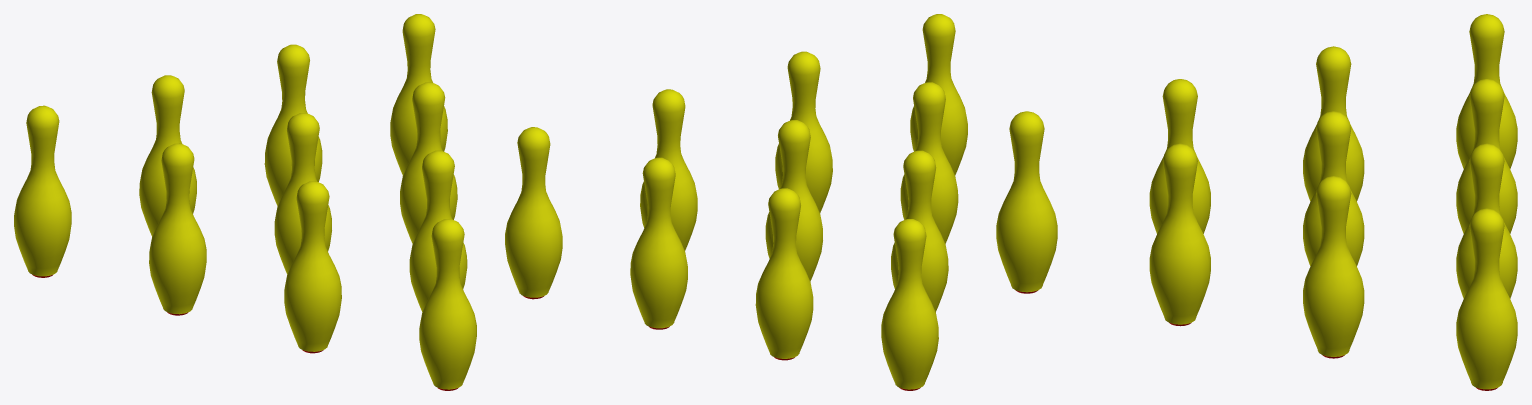
Rendered from #TOY0003_V2_10_Bowling_Pins.fbx.
3 renders of one model, left to right at view 1: azimuth 30°, elevation 25°; view 2: azimuth 150°, elevation 25°; view 3: azimuth 270°, elevation 25°, orthographic. The views are drawn at different scales.
Parts seen in each view (by area): view 1: #TOY0003_V2_Pin.002, #TOY0003_V2_Pin.004, #TOY0003_V2_Pin.007, #TOY0003_V2_Pin.001, #TOY0003_V2_Pin.010, #TOY0003_V2_Pin.003, #TOY0003_V2_Pin.008, #TOY0003_V2_Pin.005, #TOY0003_V2_Pin.006, #TOY0003_V2_Pin.009; view 2: #TOY0003_V2_Pin.009, #TOY0003_V2_Pin.010, #TOY0003_V2_Pin.007, #TOY0003_V2_Pin.008, #TOY0003_V2_Pin.004, #TOY0003_V2_Pin.006, #TOY0003_V2_Pin.003, #TOY0003_V2_Pin.002, #TOY0003_V2_Pin.001, #TOY0003_V2_Pin.005; view 3: #TOY0003_V2_Pin.010, #TOY0003_V2_Pin.001, #TOY0003_V2_Pin.006, #TOY0003_V2_Pin.003, #TOY0003_V2_Pin.009, #TOY0003_V2_Pin.007, #TOY0003_V2_Pin.008, #TOY0003_V2_Pin.004, #TOY0003_V2_Pin.002, #TOY0003_V2_Pin.005.
Part boxes in pixels (x1=…): #TOY0003_V2_Pin.002: x1=284, y1=181, x2=341, y2=353; #TOY0003_V2_Pin.004: x1=149, y1=143, x2=206, y2=315; #TOY0003_V2_Pin.007: x1=14, y1=105, x2=71, y2=277; #TOY0003_V2_Pin.001: x1=419, y1=219, x2=476, y2=390; #TOY0003_V2_Pin.010: x1=390, y1=14, x2=447, y2=175; #TOY0003_V2_Pin.003: x1=409, y1=150, x2=467, y2=311; #TOY0003_V2_Pin.008: x1=139, y1=75, x2=196, y2=236; #TOY0003_V2_Pin.005: x1=274, y1=113, x2=331, y2=273; #TOY0003_V2_Pin.006: x1=400, y1=82, x2=457, y2=243; #TOY0003_V2_Pin.009: x1=264, y1=44, x2=322, y2=205; #TOY0003_V2_Pin.009: x1=630, y1=157, x2=687, y2=329; #TOY0003_V2_Pin.010: x1=505, y1=127, x2=562, y2=299; #TOY0003_V2_Pin.007: x1=881, y1=219, x2=938, y2=390; #TOY0003_V2_Pin.008: x1=755, y1=188, x2=813, y2=360; #TOY0003_V2_Pin.004: x1=891, y1=150, x2=948, y2=311; #TOY0003_V2_Pin.006: x1=640, y1=89, x2=697, y2=250; #TOY0003_V2_Pin.003: x1=775, y1=51, x2=832, y2=212; #TOY0003_V2_Pin.002: x1=900, y1=82, x2=958, y2=243; #TOY0003_V2_Pin.001: x1=910, y1=14, x2=967, y2=175; #TOY0003_V2_Pin.005: x1=765, y1=120, x2=822, y2=281; #TOY0003_V2_Pin.010: x1=1456, y1=208, x2=1517, y2=390; #TOY0003_V2_Pin.001: x1=996, y1=111, x2=1057, y2=293; #TOY0003_V2_Pin.006: x1=1303, y1=176, x2=1364, y2=358; #TOY0003_V2_Pin.003: x1=1149, y1=143, x2=1210, y2=326; #TOY0003_V2_Pin.009: x1=1456, y1=143, x2=1517, y2=298; #TOY0003_V2_Pin.007: x1=1456, y1=14, x2=1517, y2=168; #TOY0003_V2_Pin.008: x1=1456, y1=79, x2=1517, y2=233; #TOY0003_V2_Pin.004: x1=1303, y1=46, x2=1364, y2=201; #TOY0003_V2_Pin.002: x1=1149, y1=79, x2=1210, y2=233; #TOY0003_V2_Pin.005: x1=1303, y1=111, x2=1364, y2=266.
Size of the model in its own units: 1.02 by 0.3798 by 1.02.
